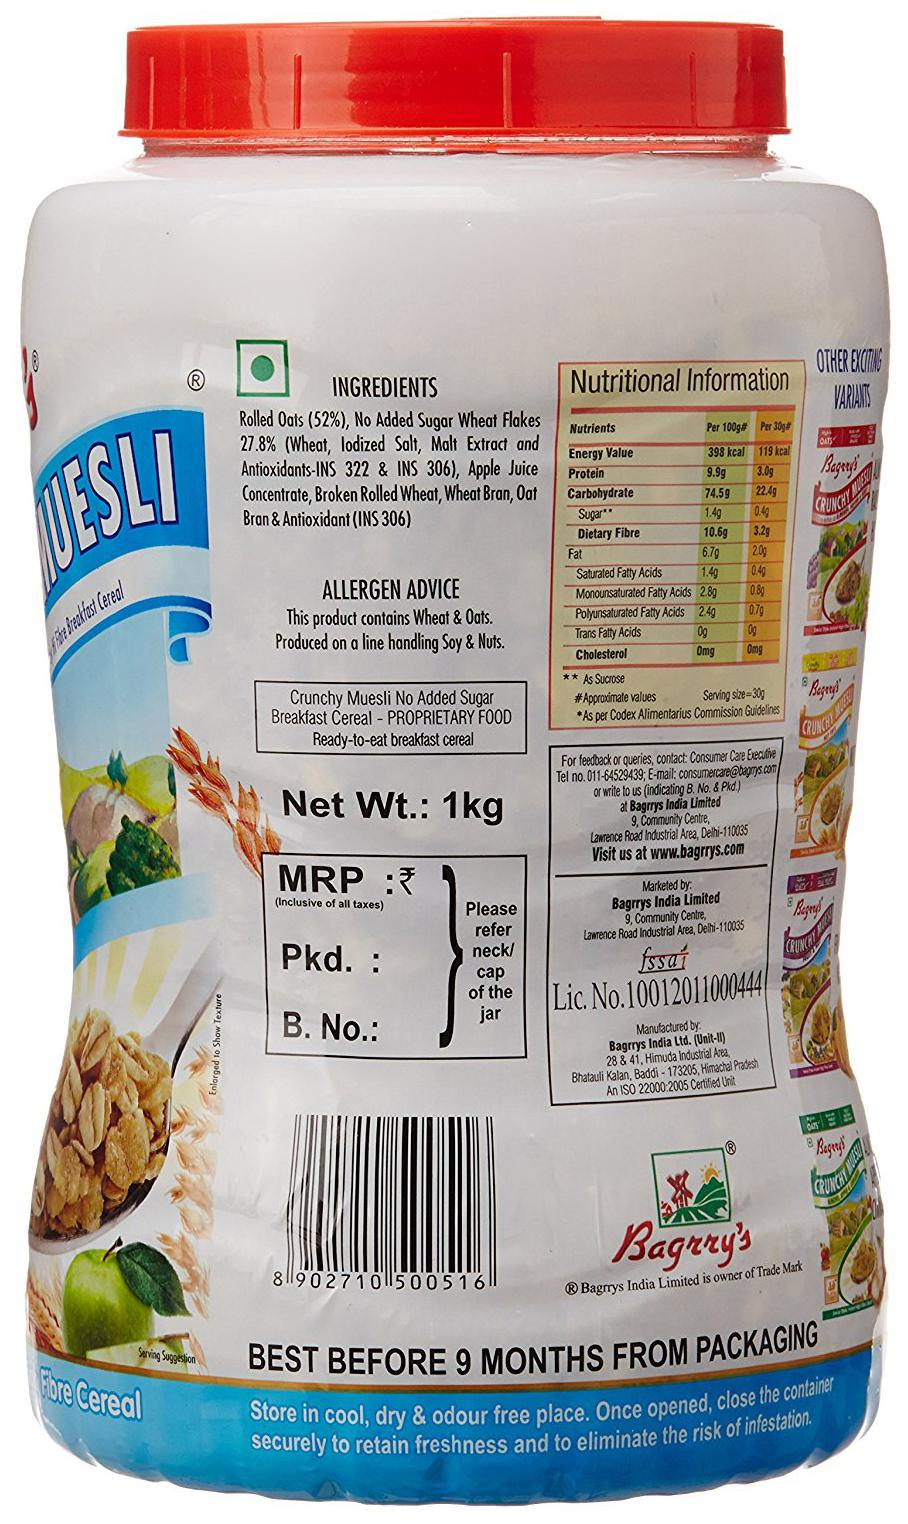fssai: (638, 945, 687, 975)
